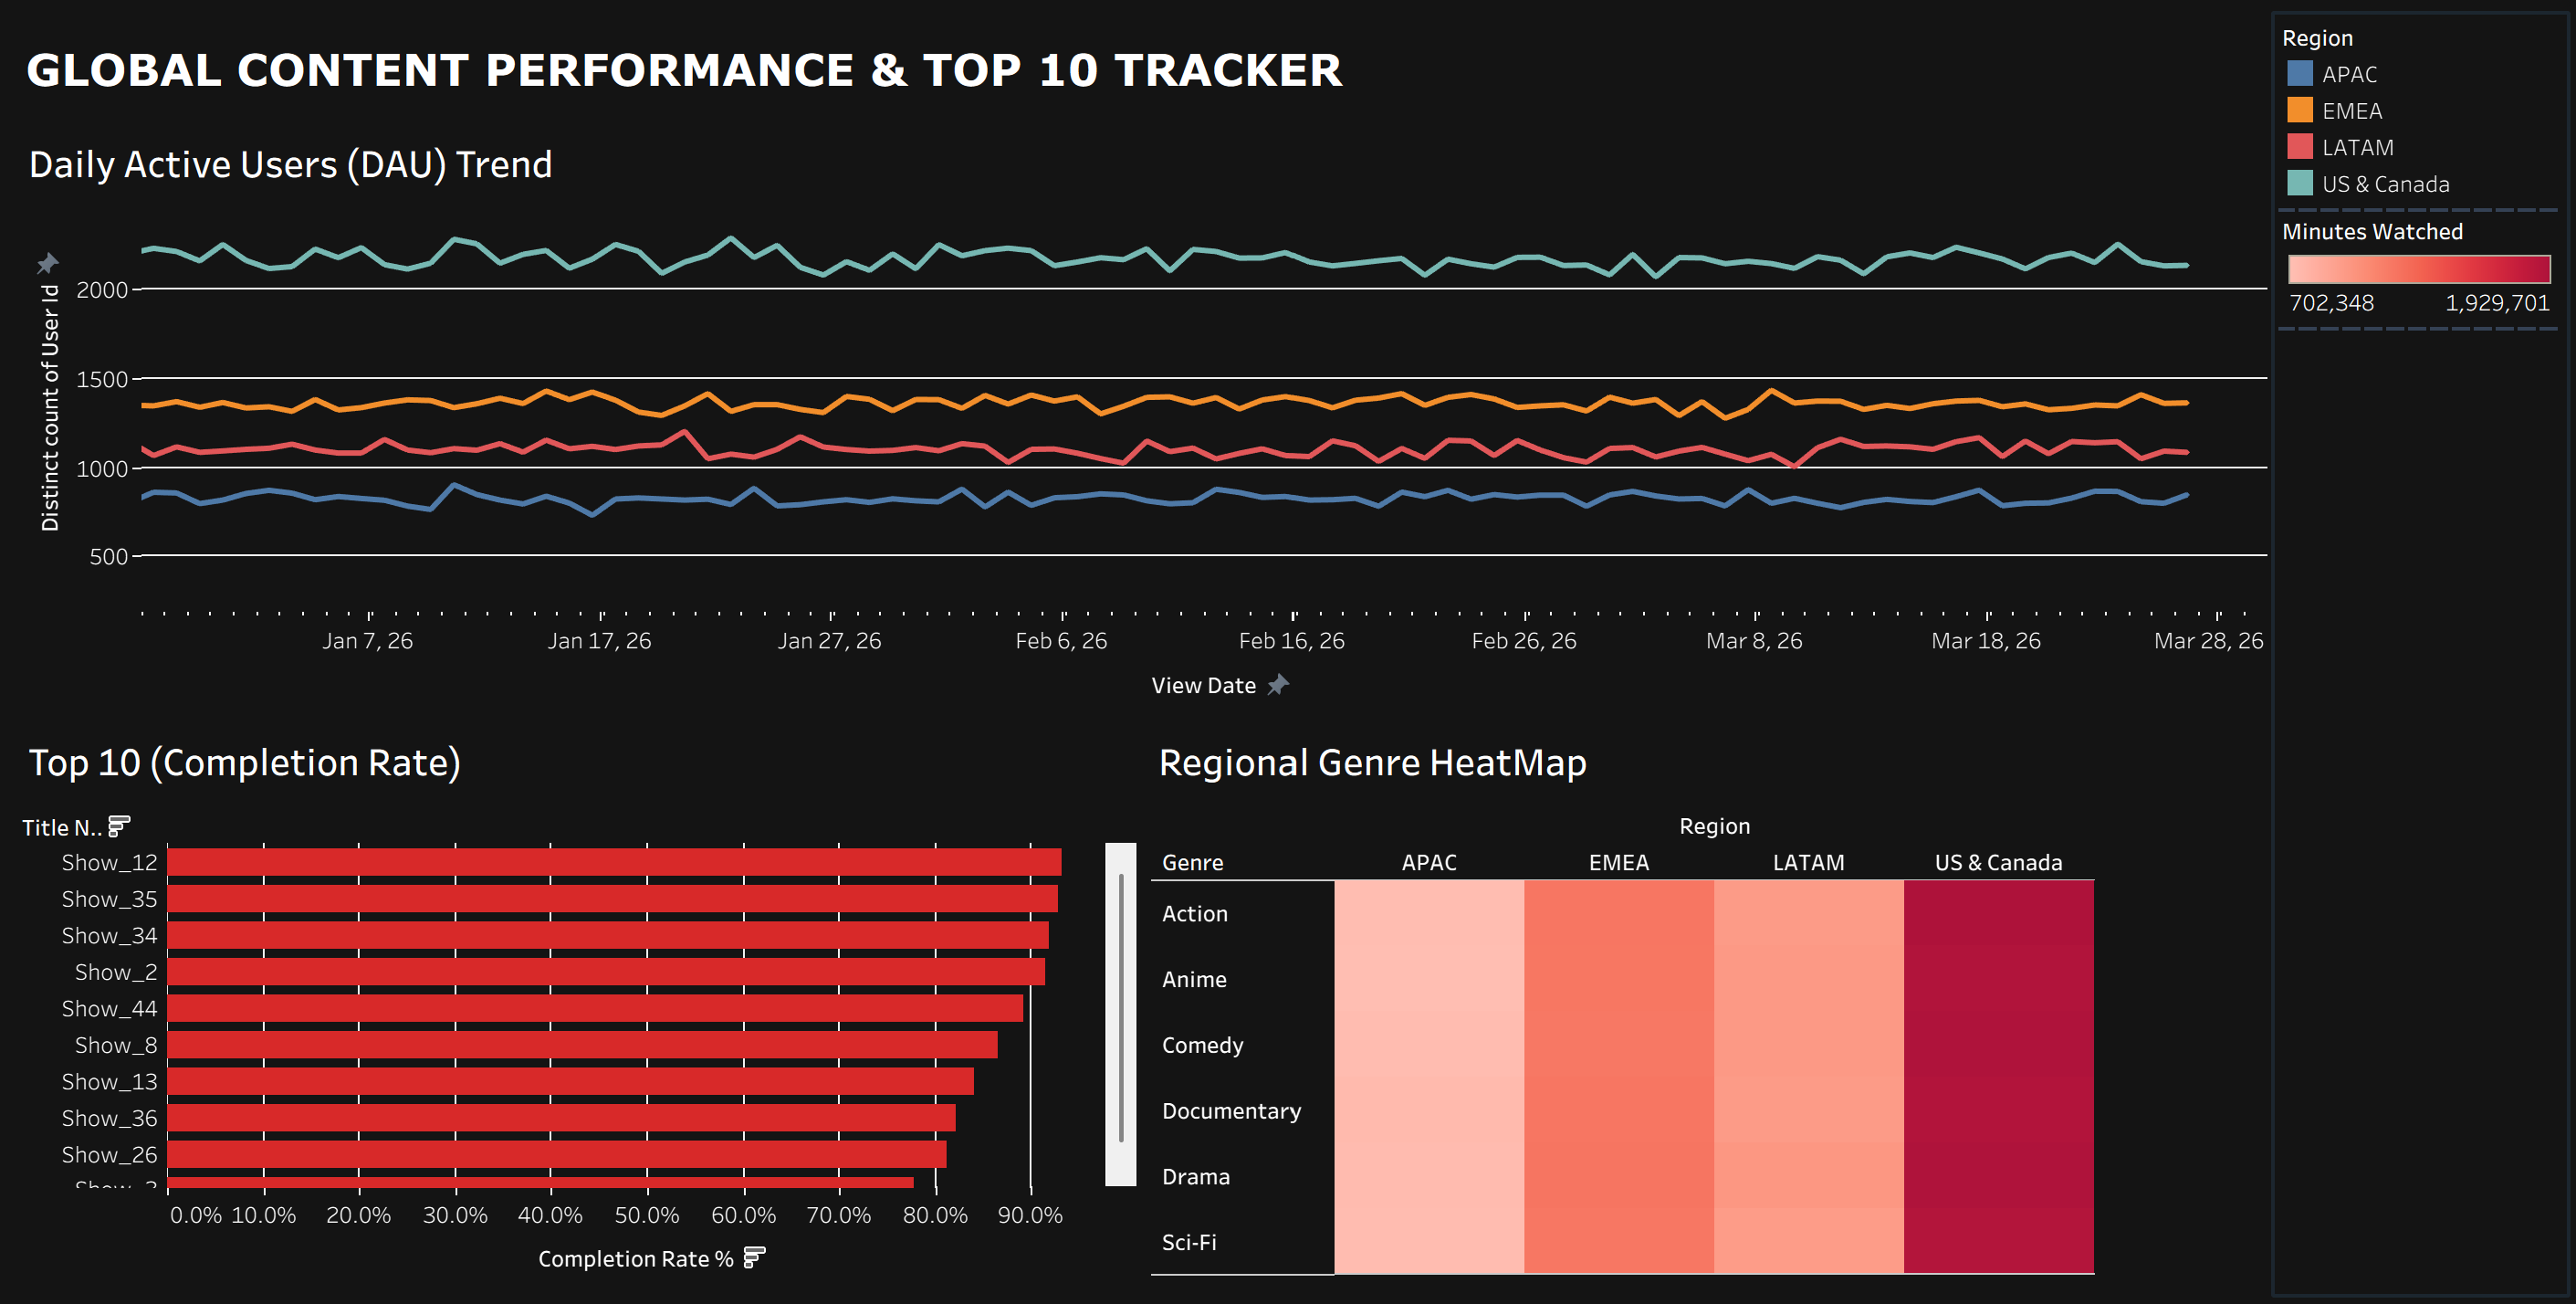

The dashboard page shown, as its layout file describes it:
{"tool":"tableau","page":{"name":"Global Content Performance Tracker","canvas":[1000,1000],"units":"permille","ordinal":0},"visuals":[{"type":"text","box":[6.8,11.2,851.1,82.4]},{"type":"legend","title":"DAU Trend","param":"[federated.0m2q4bz1m35x5m0zu0nvb1rg2joo].[none:region:nk]","box":[857.9,11.2,135.4,148]},{"type":"worksheet","title":"DAU Trend","mark":"Automatic","rows":["user_id"],"cols":["view_date"],"box":[6.8,93.6,851.1,456.7]},{"type":"legend","title":"Genre HeatMap","param":"[federated.0m2q4bz1m35x5m0zu0nvb1rg2joo].[sum:minutes_watched:qk]","box":[857.9,159.2,135.4,90.8]},{"type":"worksheet","title":"Top 10 Titles","mark":"Automatic","rows":["title_name"],"cols":["Calculation_2019856274911232"],"box":[6.8,550.3,425.6,438.6]},{"type":"worksheet","title":"Genre HeatMap","mark":"Square","rows":["genre"],"cols":["region"],"box":[432.3,550.3,425.6,438.6]}]}

Visuals, with their boxes on the dashboard's canvas, which has no fixed pixel size, in thousandths of its width and height (x1, y1, x2, y2). These are canvas units, not pixel positions in the 2576x1304 screenshot, which may show the page scaled, cropped or inside an application window:
text: (7,11,858,94)
"DAU Trend" legend: (858,11,993,159)
"DAU Trend" worksheet: (7,94,858,550)
"Genre HeatMap" legend: (858,159,993,250)
"Top 10 Titles" worksheet: (7,550,432,989)
"Genre HeatMap" worksheet (Square marks): (432,550,858,989)
